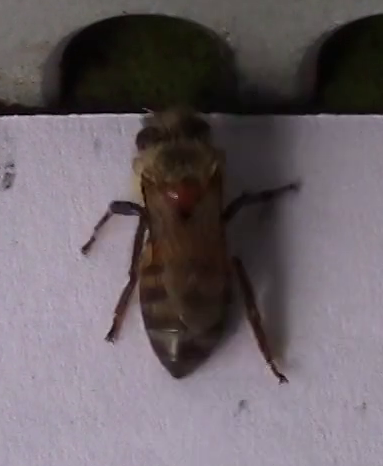Varroa destructor: (158, 173, 206, 212)
